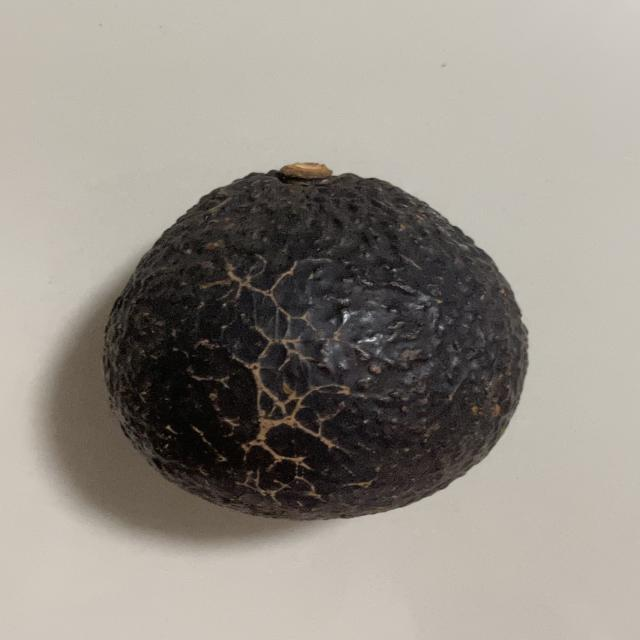Level3: (91, 152, 540, 529)
